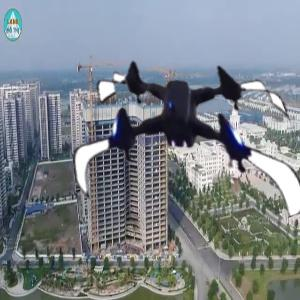drone: (64, 22, 296, 254)
